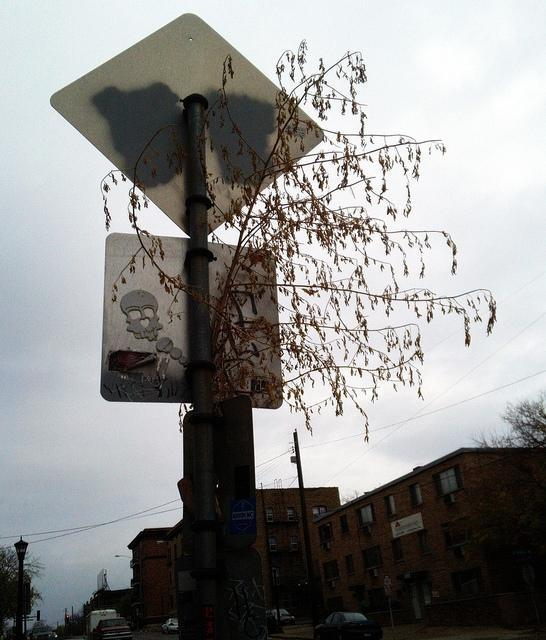car: (313, 612, 383, 638), (280, 608, 296, 625), (162, 618, 178, 634)
truck: (86, 609, 134, 640), (28, 625, 58, 640)
